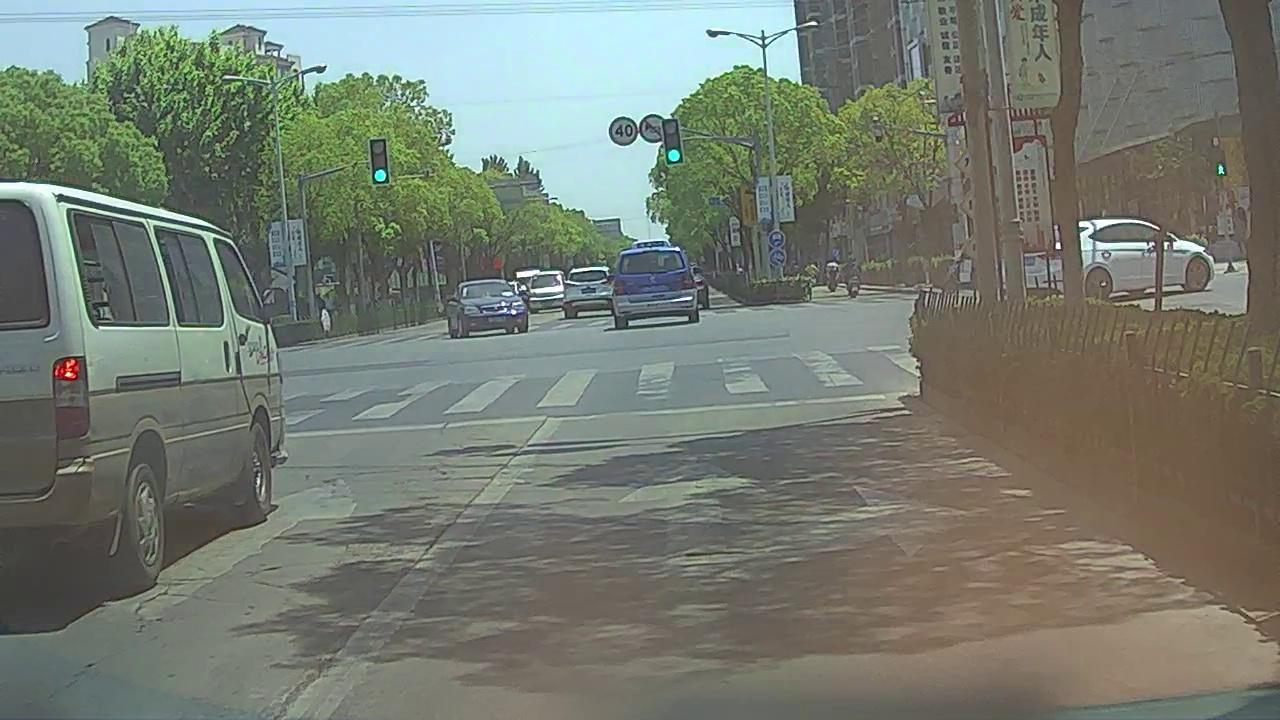traffic_light: (370, 140, 388, 184), (665, 120, 681, 164)
